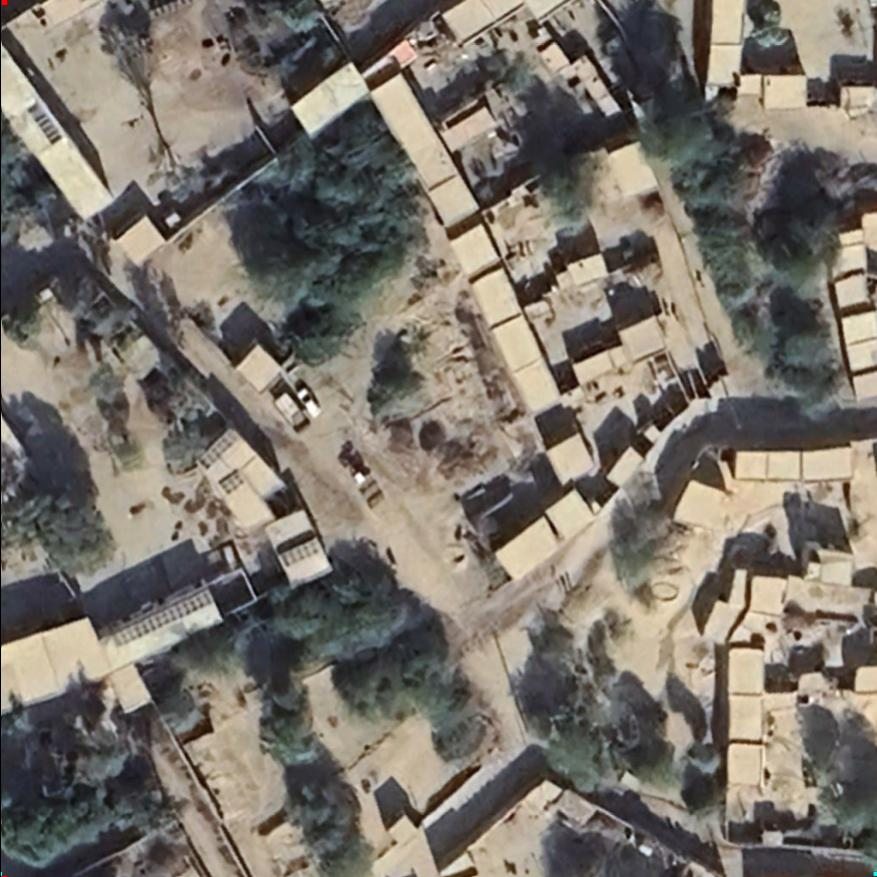Solarpanel: (106, 588, 217, 651), (21, 98, 69, 147), (193, 427, 238, 474), (274, 535, 330, 570), (213, 470, 251, 496)
